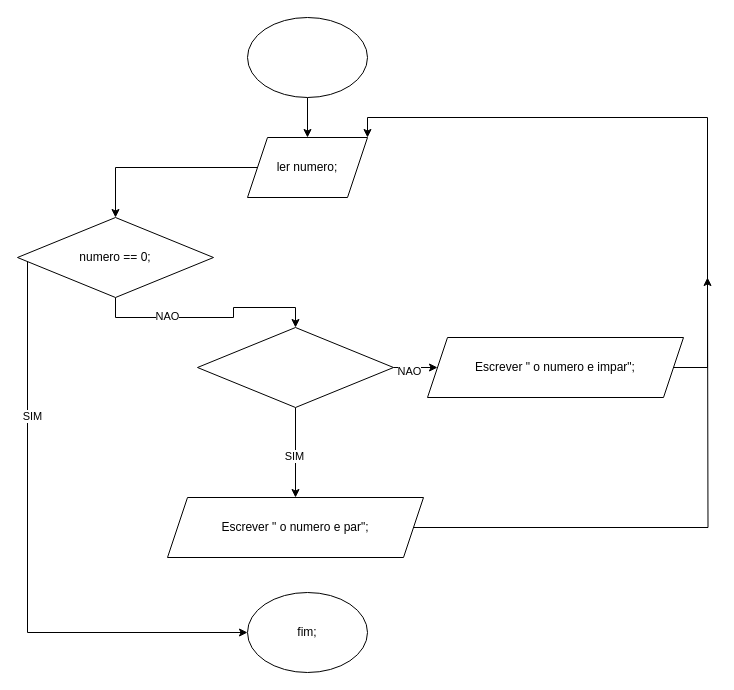
This 734x690 diagram has some shape labels left out. The shapes that lost their labels are listed below. From the top down, each one's centre as x and y in pixels, then its label:
At [307,57]: "inicio".
At [295,367]: "numero MOD 2 == 0;".
